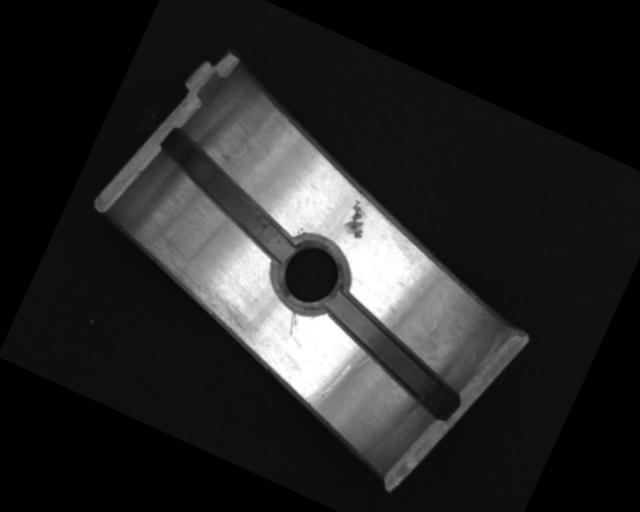bruise: (339, 198, 376, 241)
gap: (139, 126, 316, 263), (304, 290, 479, 423)
hole: (261, 229, 359, 327)
nick: (304, 352, 354, 414), (282, 309, 303, 337)
scratch: (125, 238, 272, 345)
